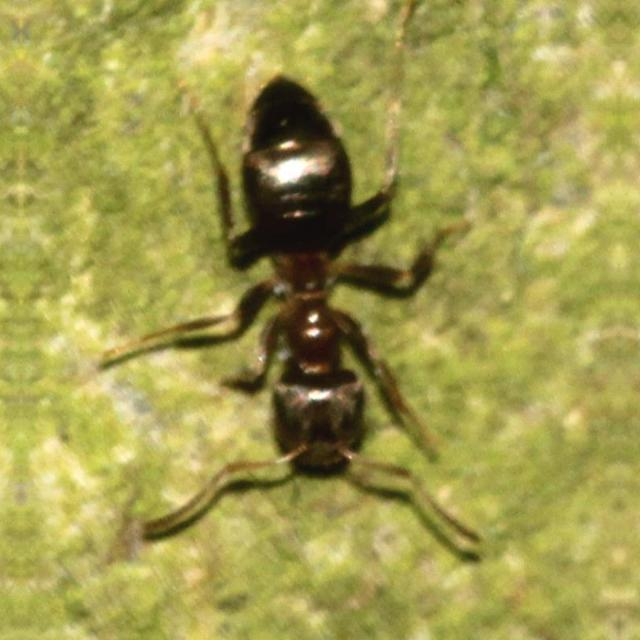Lasius: (177, 100, 468, 508)
